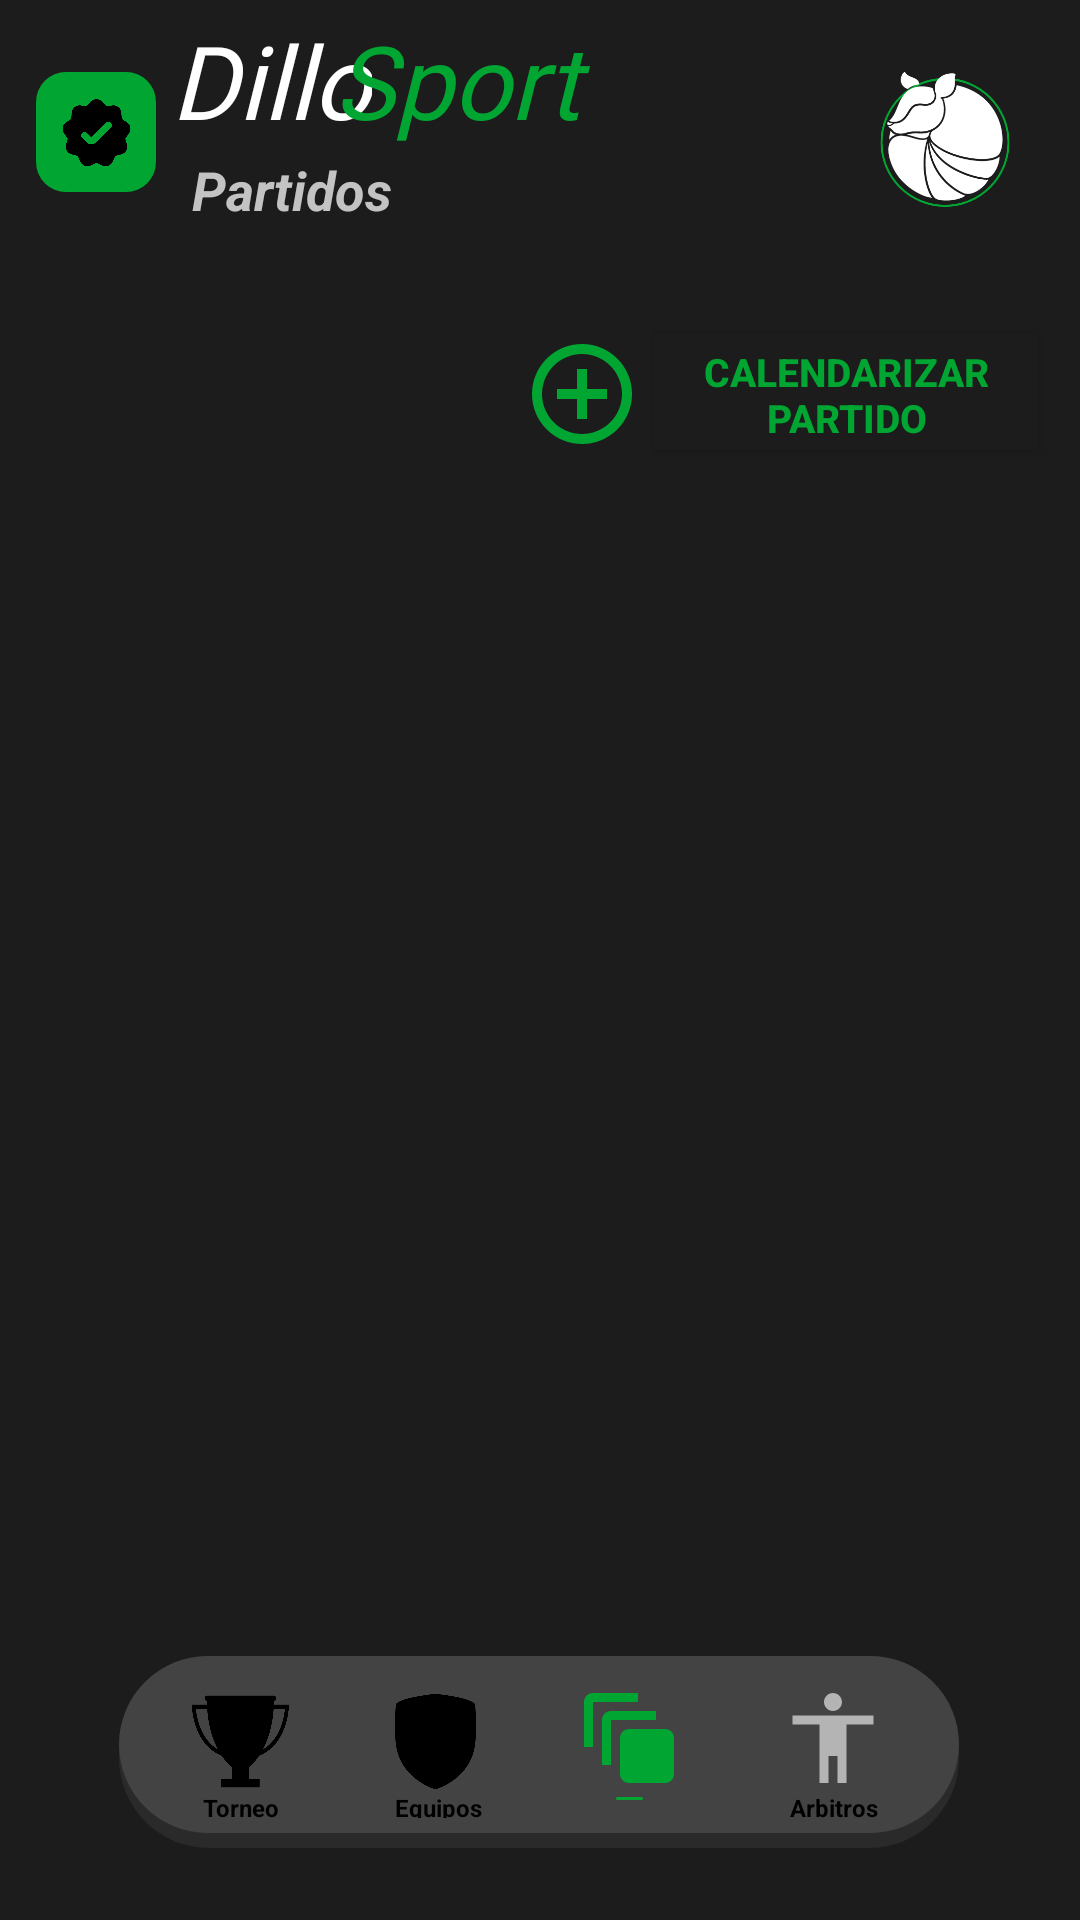

Icons on this 1080w x 1920h Android screen, each with its box as [x1=x1, y1=y1, x2=x2, y2=y2]:
crear: [x1=532, y1=344, x2=632, y2=444]
dillo: [x1=880, y1=72, x2=1010, y2=207]
